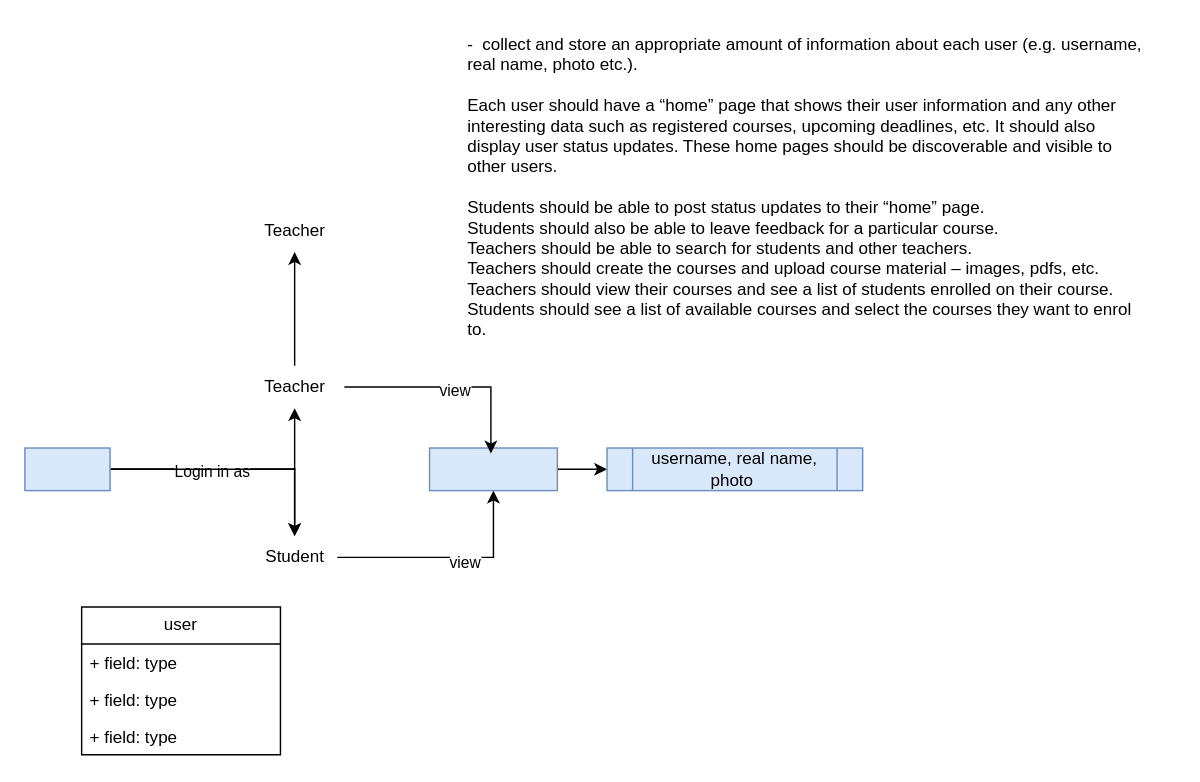
The diagram is 1200 pixels wide and 782 high, and some of its shapes have lost their labels. Here are the shapes that lost their labels. From the top down, the centre of each, then its label:
the point at 66,469: Home
the point at 492,469: User Details
